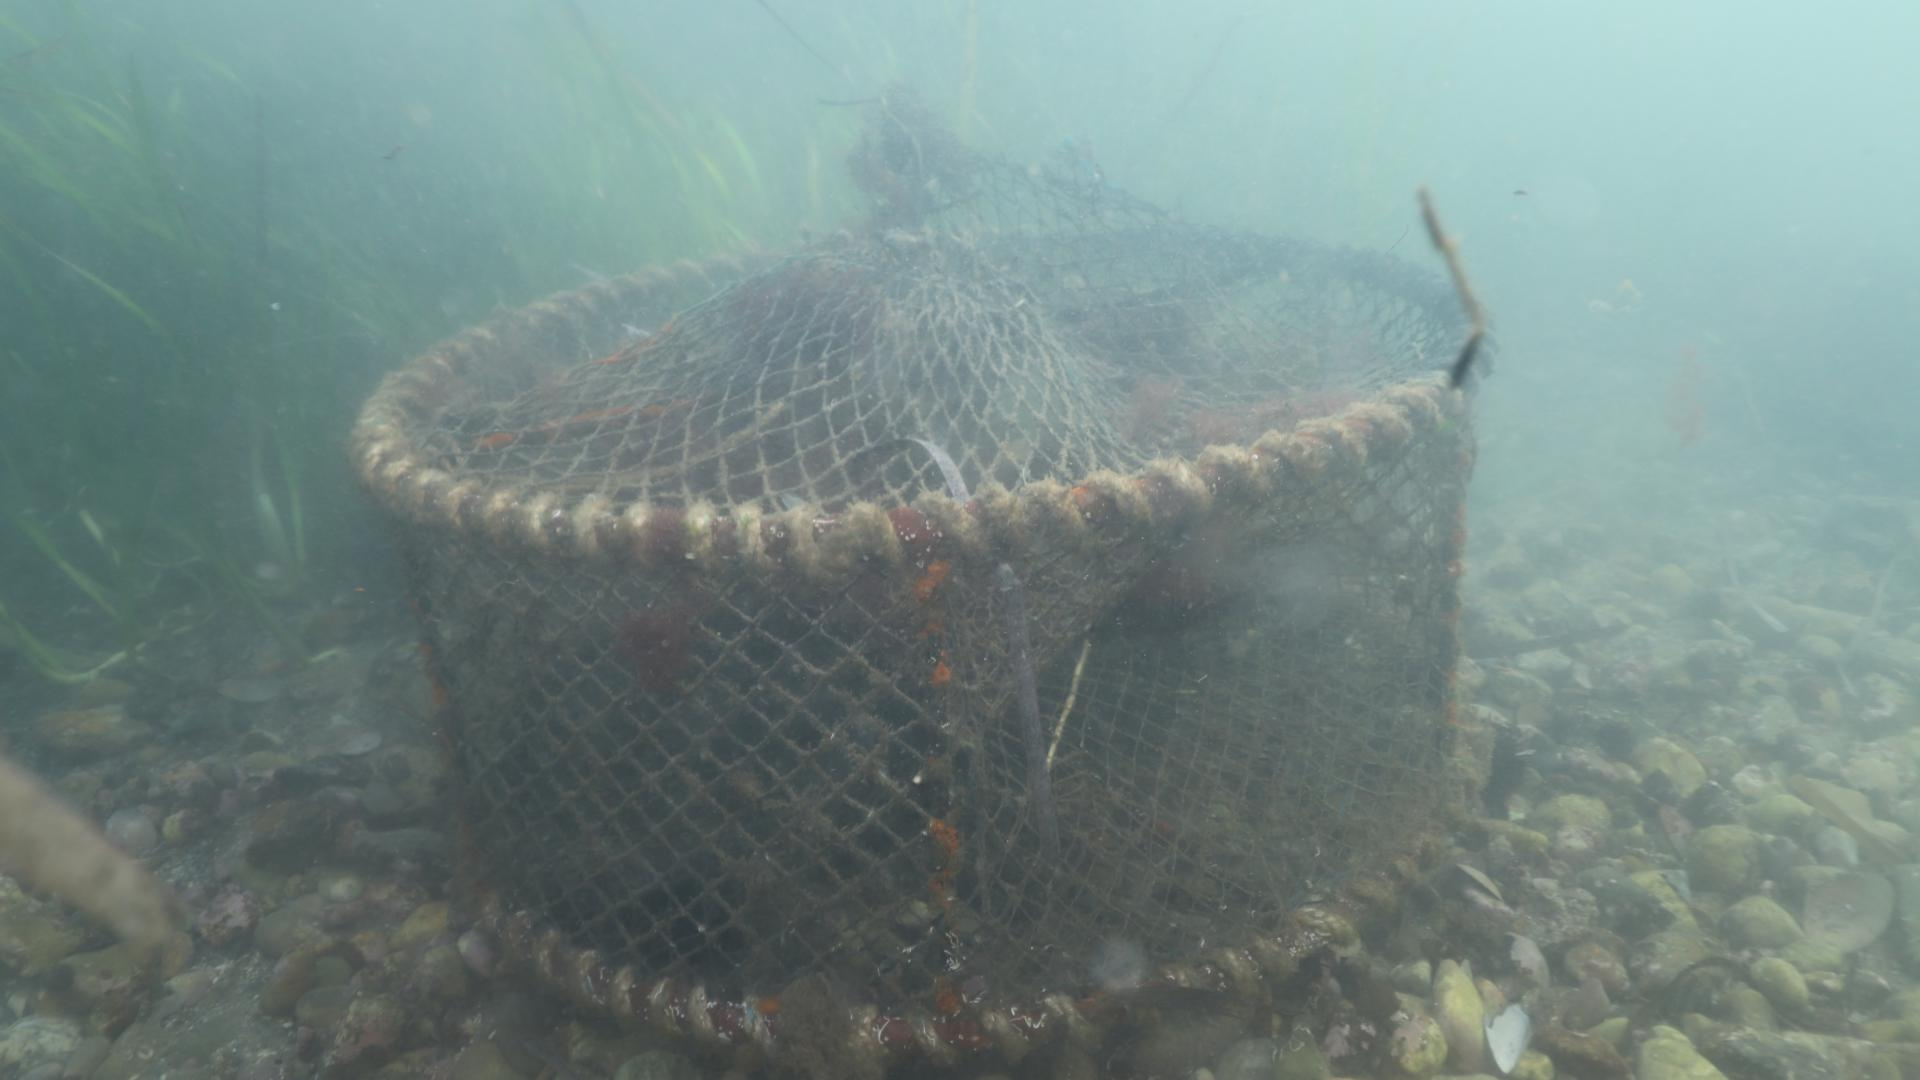circular fish trap: (351, 76, 1487, 1060)
